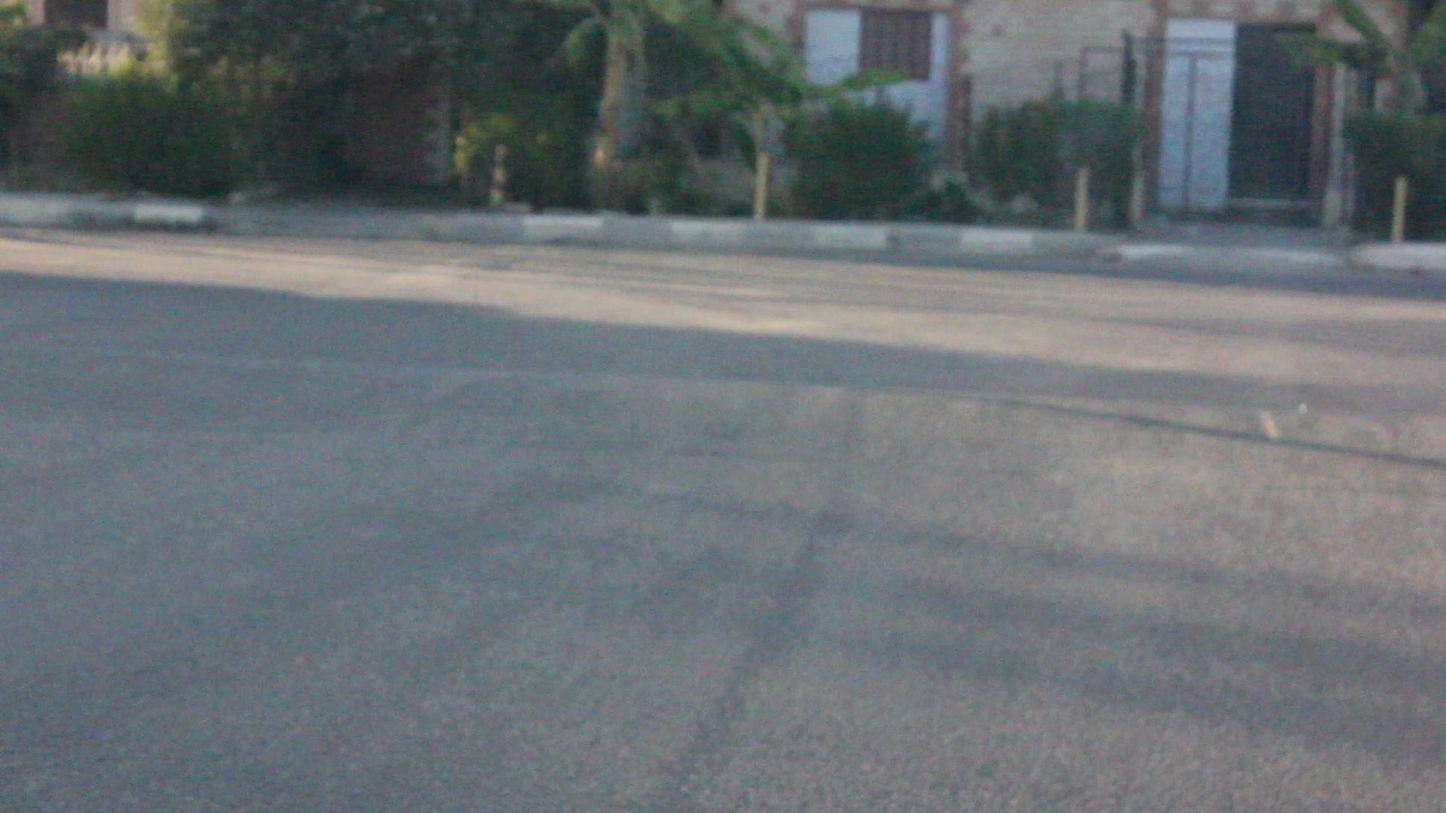Bump: (6, 349, 1442, 466)
